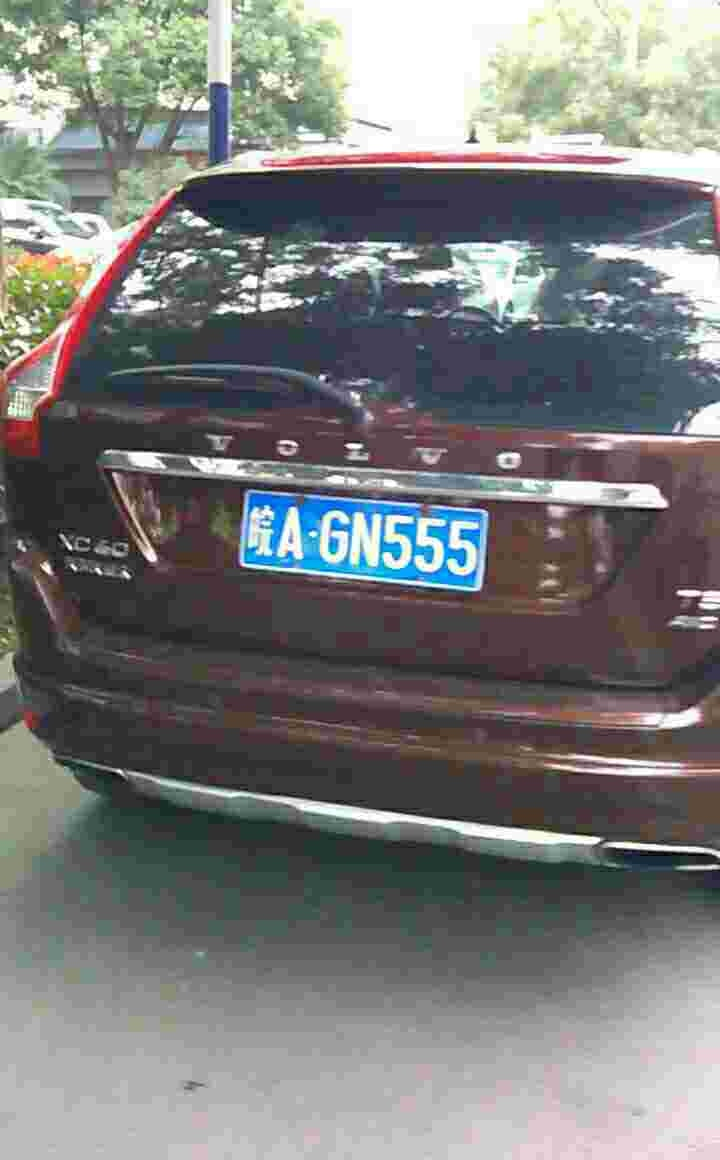license_plate: (247, 489, 483, 592)
